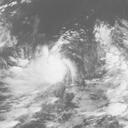cyclone: (18, 48, 73, 95)
